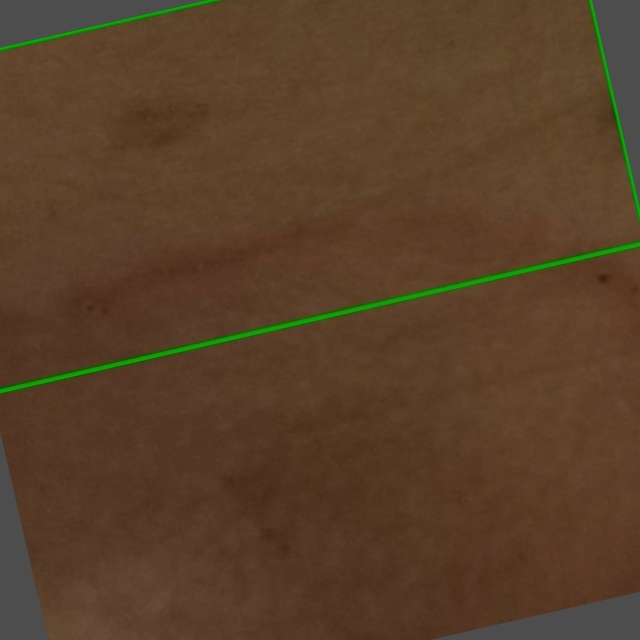Tinea Corporis: (0, 0, 639, 391)
